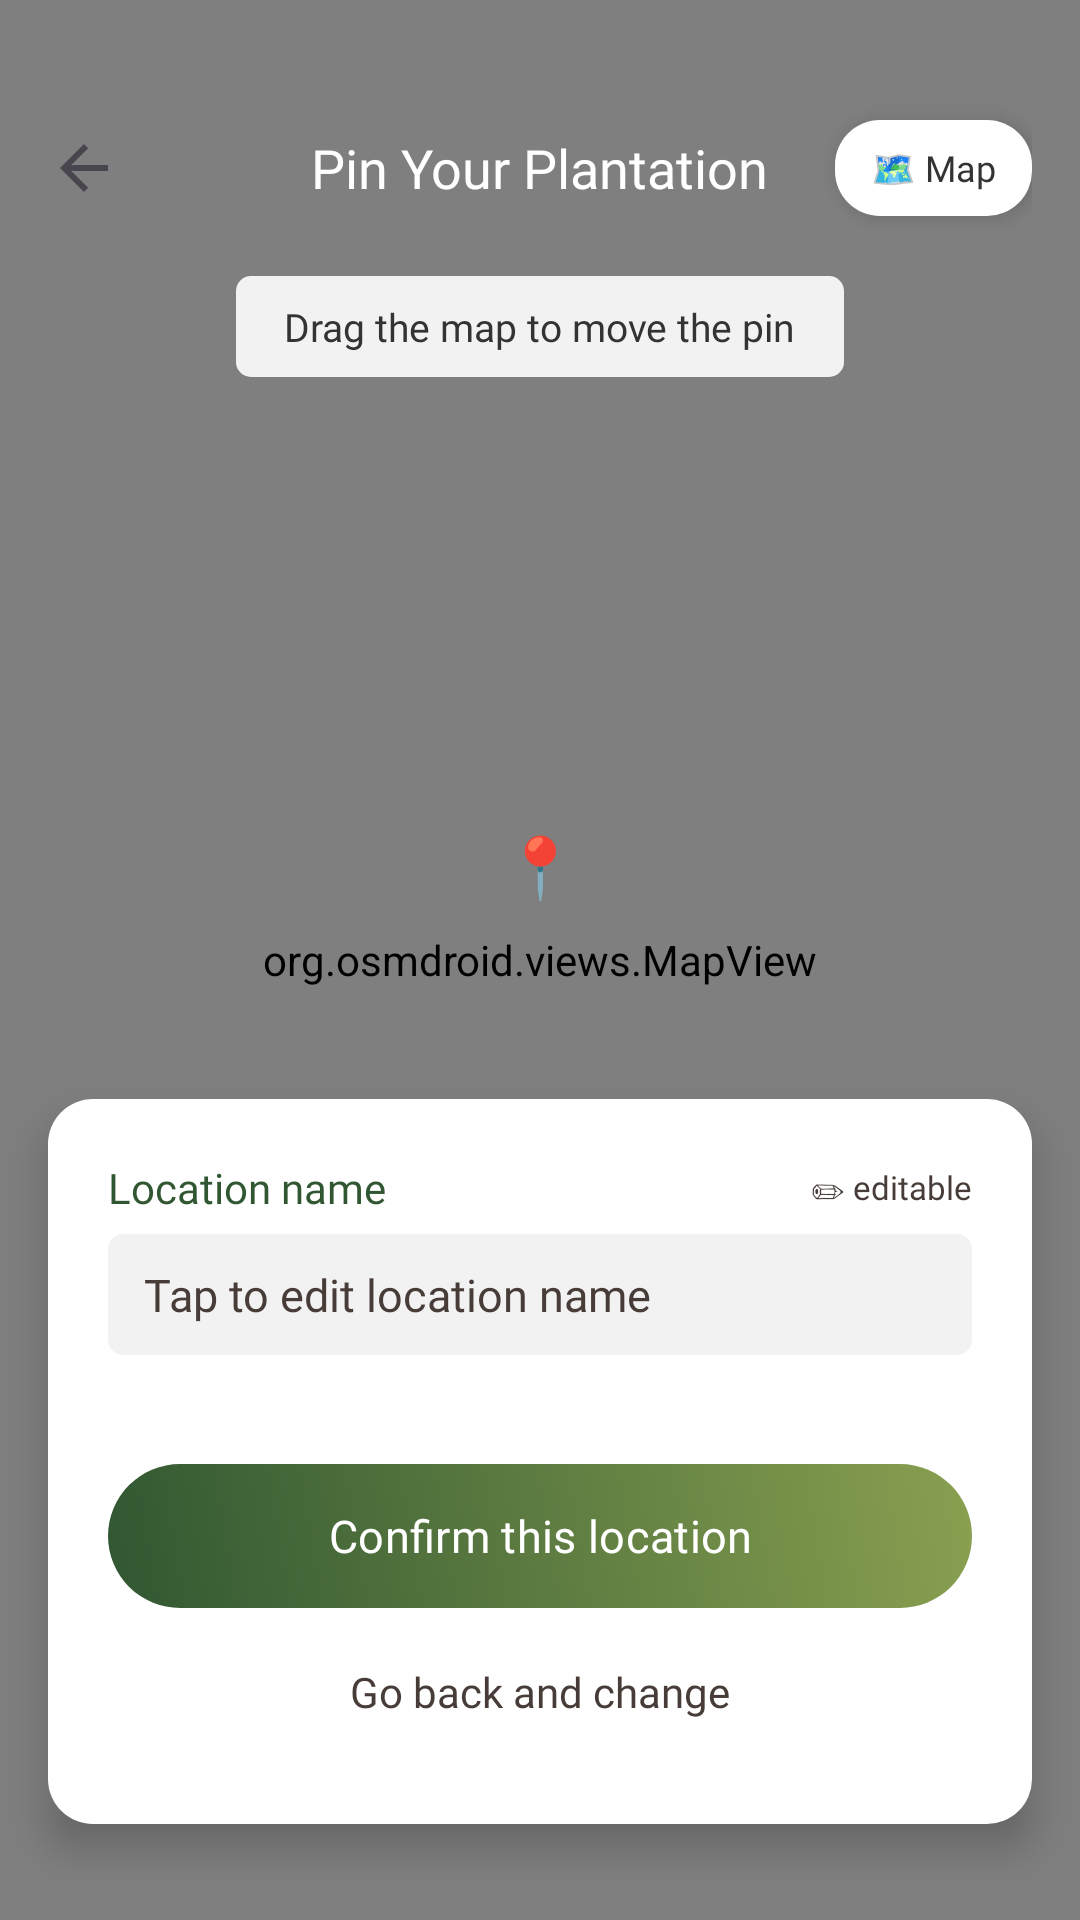

Locate icon controls on the screen. Image size 1080x1920, boxes as (x1, y1, x2, y2).
Back: (60, 144, 108, 192)
